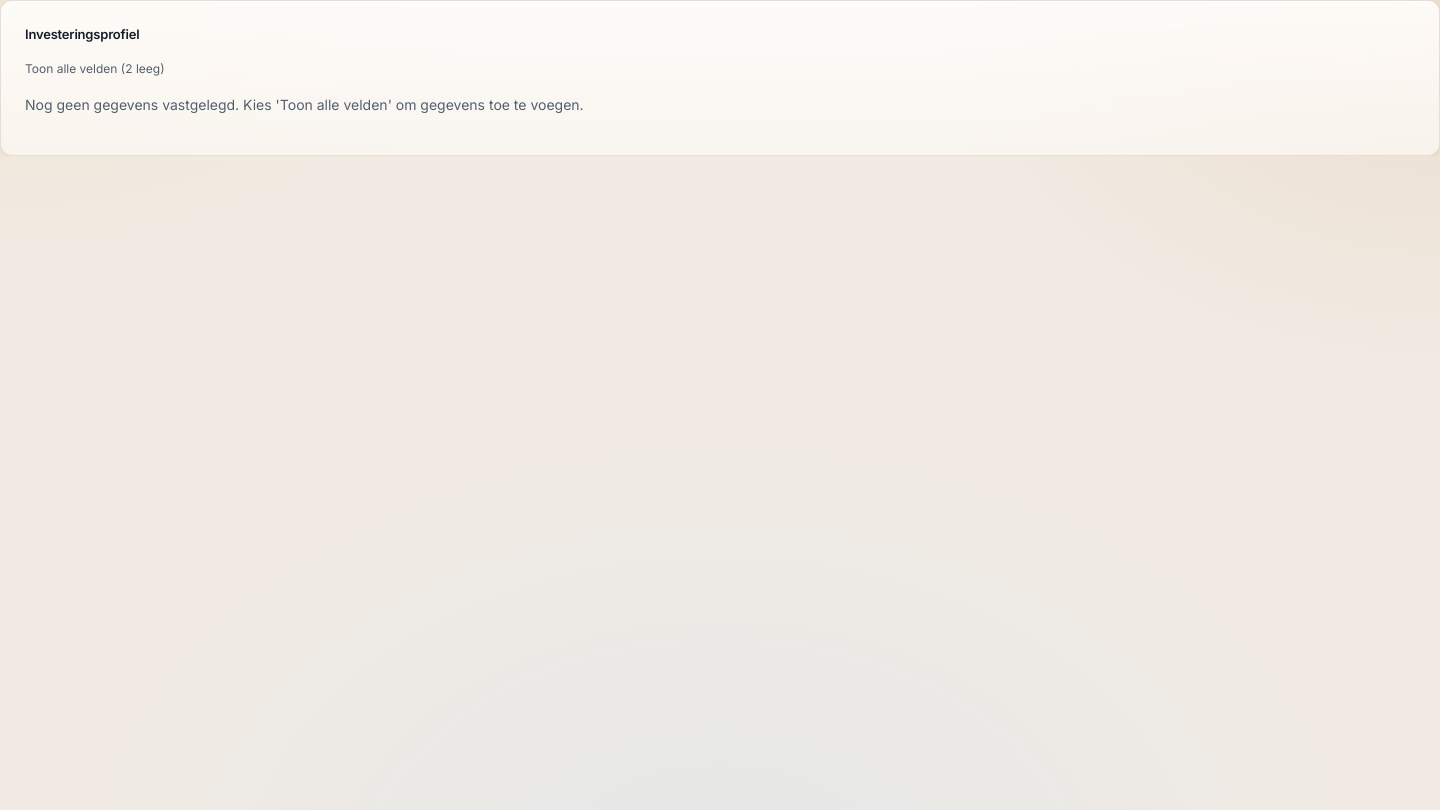
Test: Investeringsprofiel: keuzes en vrije invoer onafhankelijk › toont de zeven websitesituaties in de lokale keuzeeditor
Click the button "Toon alle velden (2 leeg)" at (95, 68), box [25,60,164,76]
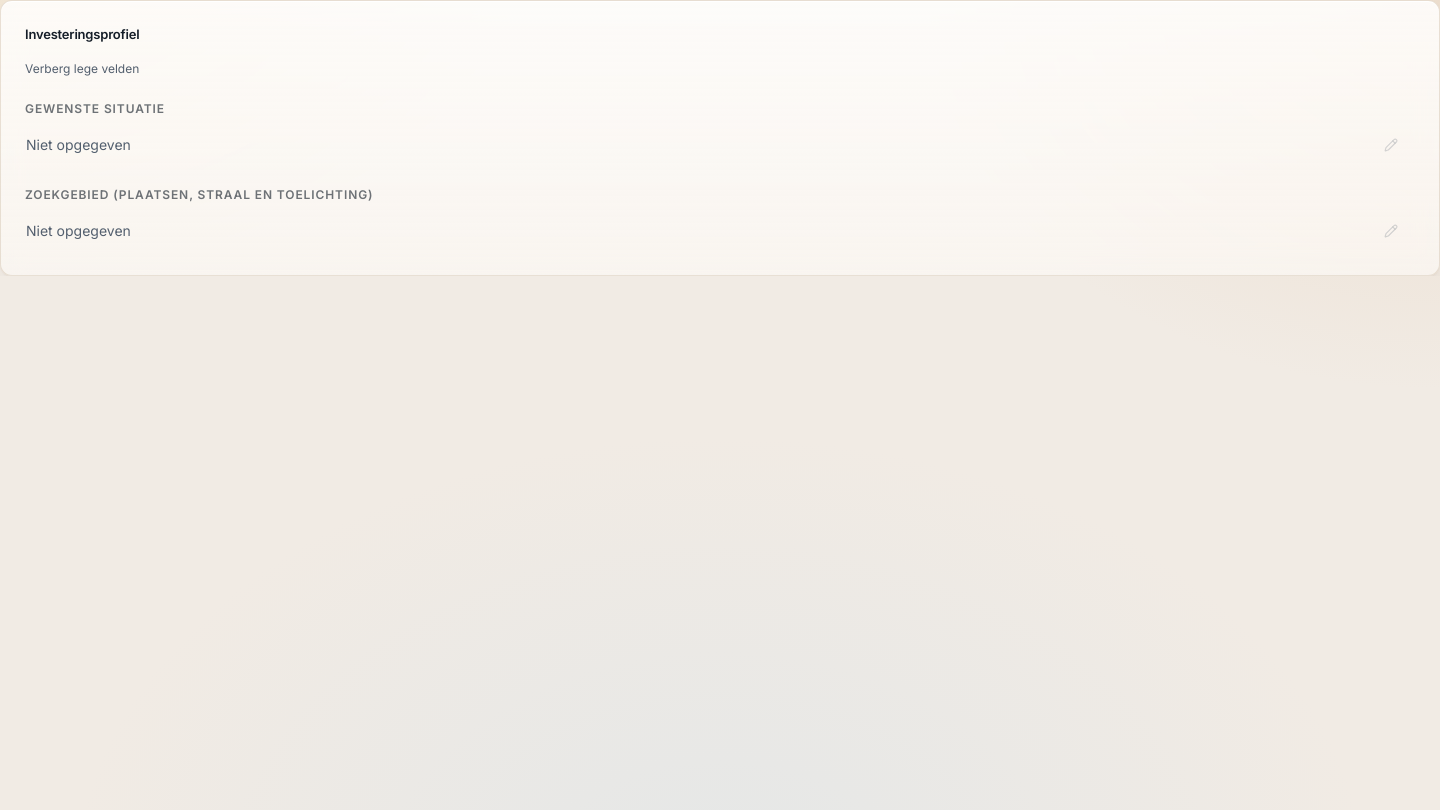
Click the button with aria-label "Wijzig Gewenste situatie" at (78, 144), box [17,124,1407,164]
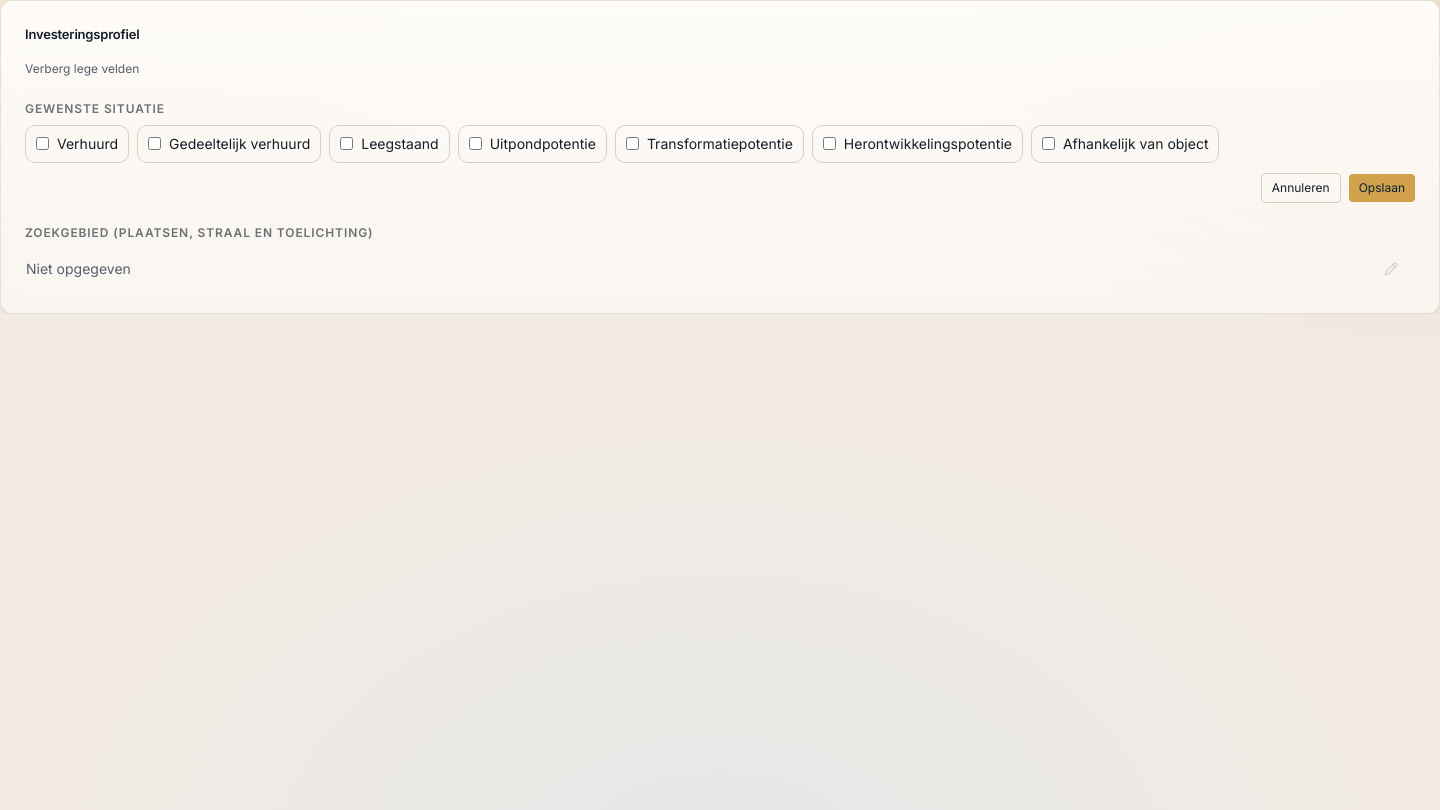
Now the checkbox labelled "Transformatiepotentie" is shown, box [626,137,639,150]
Now the checkbox labelled "Herontwikkelingspotentie" is shown, box [823,137,836,150]
Now the checkbox labelled "Afhankelijk van object" is shown, box [1042,137,1055,150]
